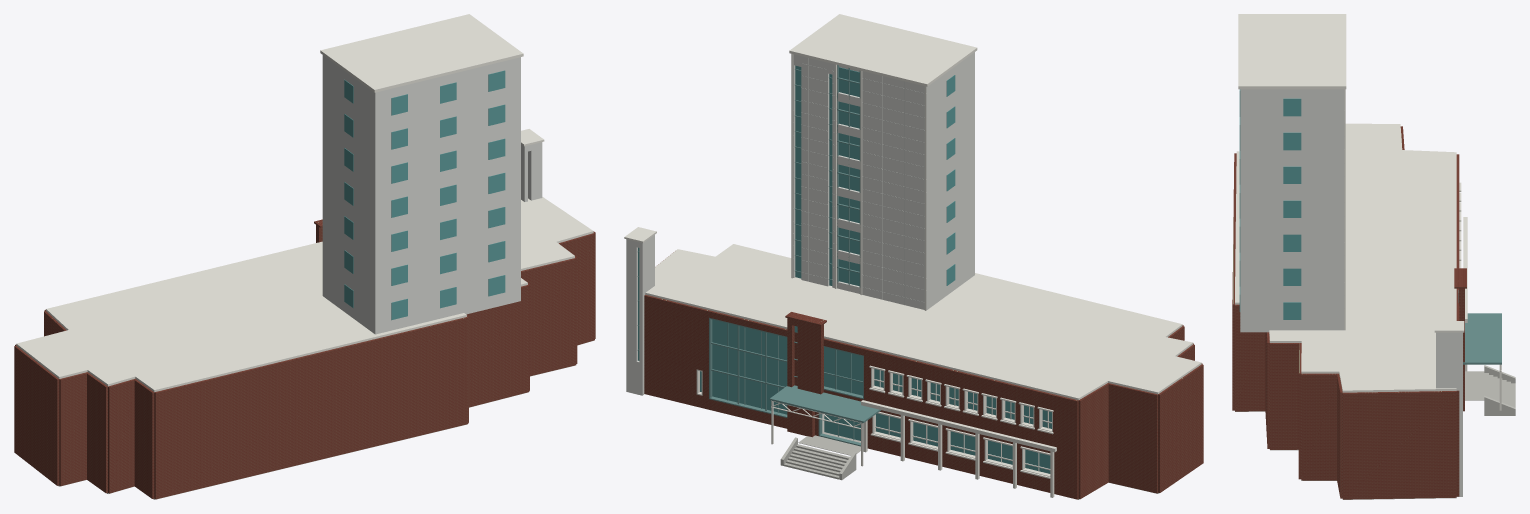
3 renders of one model, left to right at view 1: azimuth 30°, elevation 25°; view 2: azimuth 150°, elevation 25°; view 3: azimuth 270°, elevation 25°, orthographic. The views are drawn at different scales.
Parts seen in each view (by area): view 1: N9 rear side brick wall 08, N9 brick block coping, N9 tower right solid blade, N9 tower top coping, N9 tower left solid blade, N9 tower rear estimated windows, N9 rear side brick wall 06, N9 tower middle glass backing, N9 rear side brick wall 04, N9 rear side brick wall 13, N9 tower left slot backing, N9 rear side brick wall 12 (+6 smaller); view 2: N9 brick block coping, N9 tower right solid blade, N9 low-rise front wall, N9 tower left solid blade, N9 tower top coping, N9 left-curtain recessed glass, N9 rear side brick wall 14, N9 rear side brick wall 13, N9 rear side brick wall 15, N9 tower recessed middle glass, N9 blade edge return, N9 raised brick entrance pier upper (+17 smaller); view 3: N9 brick block coping, N9 tower left solid blade, N9 rear side brick wall 01, N9 tower top coping, N9 rear side brick wall 03, N9 rear side brick wall 05, N9 rear side brick wall 07, N9 tower side estimated windows, N9 left high stair shaft, N9 porch roof, N9 low-rise front wall, N9 rear side brick wall 08 (+9 smaller).
Part boxes in pixels (x1,y1,x2,y2): N9 rear side brick wall 08: (154,317,468,499); N9 brick block coping: (16,197,593,392); N9 tower right solid blade: (323,55,446,334); N9 tower top coping: (320,14,523,92); N9 tower left solid blade: (472,57,520,312); N9 tower rear estimated windows: (391,70,505,320); N9 rear side brick wall 06: (466,285,529,407); N9 tower middle glass backing: (446,69,472,316); N9 rear side brick wall 04: (521,258,576,376); N9 rear side brick wall 13: (14,345,59,485); N9 tower left slot backing: (477,69,518,311); N9 rear side brick wall 12: (59,372,86,486); N9 brick block coping: (645,244,1201,400); N9 tower right solid blade: (862,52,974,310); N9 low-rise front wall: (644,294,1078,499); N9 tower left solid blade: (793,54,837,288); N9 tower top coping: (789,14,977,86); N9 left-curtain recessed glass: (712,319,787,414); N9 rear side brick wall 14: (1107,383,1157,493); N9 rear side brick wall 13: (1158,364,1203,492); N9 rear side brick wall 15: (1078,384,1108,499); N9 tower recessed middle glass: (839,67,859,286); N9 blade edge return: (791,54,926,310); N9 raised brick entrance pier upper: (787,318,823,394); N9 brick block coping: (1235,123,1456,392); N9 tower left solid blade: (1240,89,1344,332); N9 rear side brick wall 01: (1342,391,1456,499); N9 tower top coping: (1238,14,1346,89); N9 rear side brick wall 03: (1301,373,1336,480); N9 rear side brick wall 05: (1270,343,1299,449); N9 rear side brick wall 07: (1235,304,1265,411); N9 tower side estimated windows: (1283,98,1301,319); N9 left high stair shaft: (1436,332,1462,496); N9 porch roof: (1463,313,1501,364); N9 low-rise front wall: (1456,154,1459,496); N9 rear side brick wall 08: (1232,153,1236,410).
Size of the model in its own units: 50.23 by 31.82 by 22.29.
Materials: 7 (1 with a texture image).
